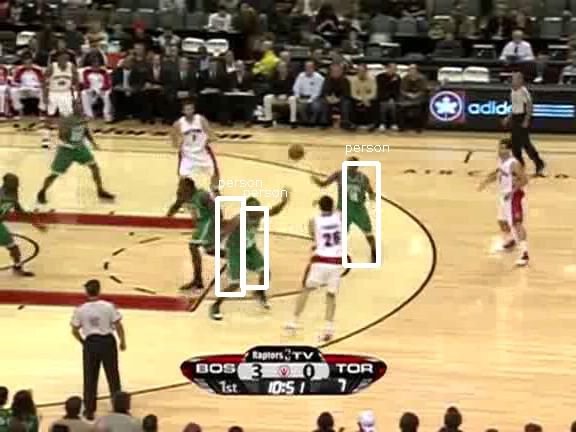person: (335, 159, 369, 240), (334, 159, 368, 240), (336, 159, 370, 240), (335, 158, 369, 239), (335, 160, 369, 241)
target_negative: (127, 5, 296, 147), (314, 362, 488, 421), (138, 240, 208, 339), (332, 45, 359, 247), (351, 109, 464, 146), (459, 378, 476, 429)
